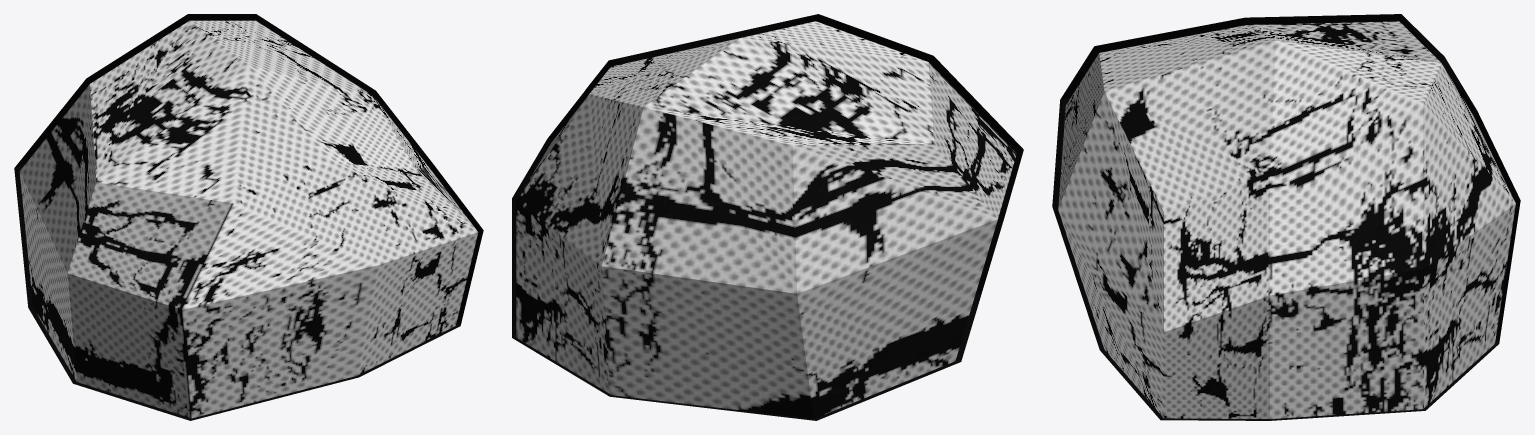
The model's file is rock.glb.
3 renders of one model, left to right at view 1: azimuth 30°, elevation 25°; view 2: azimuth 150°, elevation 25°; view 3: azimuth 270°, elevation 25°, orthographic. The views are drawn at different scales.
Visible parts, largest first — view 1: Rock; view 2: Rock; view 3: Rock.
Boxes of the visible parts, x1=… form: Rock: x1=14, y1=14, x2=483, y2=420; Rock: x1=512, y1=14, x2=1023, y2=420; Rock: x1=1052, y1=14, x2=1520, y2=420.
Bounding box in the file's own units: 4.03 × 2.59 × 3.68.
2 materials, 1 textured.
